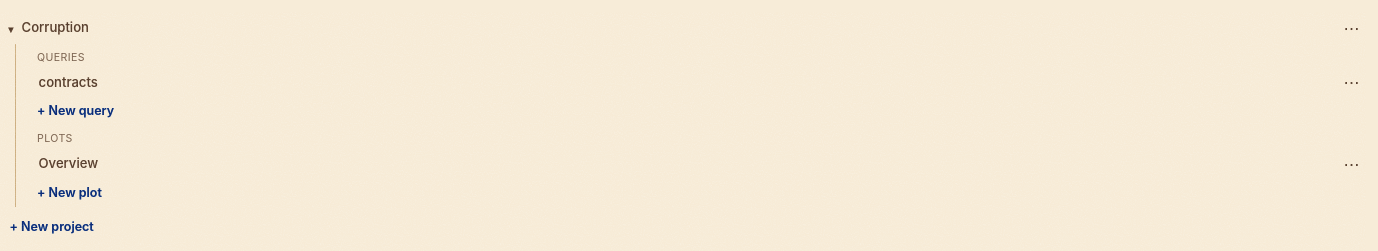
Test: StudioNav (server-backed drawer tree) › collapses a project on request, and opens it again
The width and height of the screenshot is (1378, 251).
Click the button with test id "nav-project-toggle-p1" at (12, 28), box [6,12,17,44]
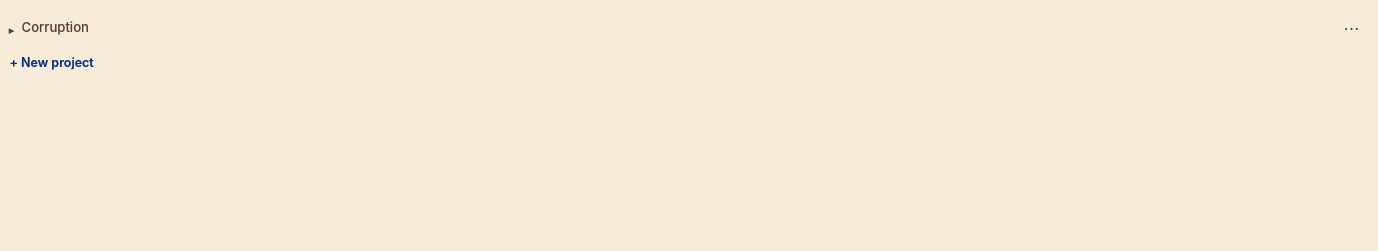
Expected: the button with test id "nav-project-toggle-p1" is collapsed
Click the button with test id "nav-project-toggle-p1" at (12, 28), box [6,12,17,44]
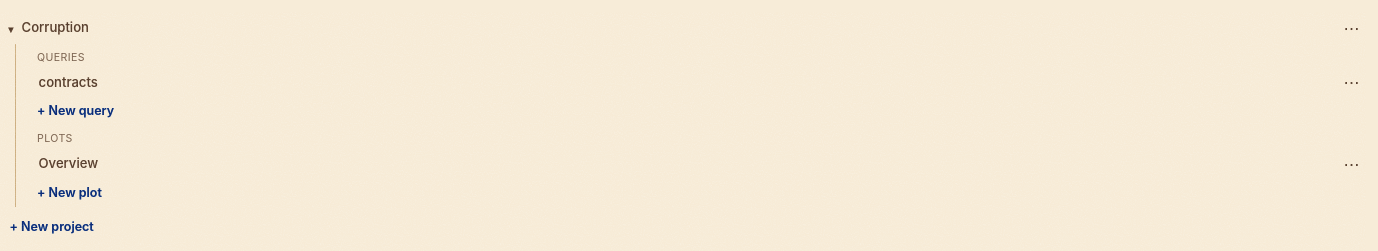
Expected: the element with test id "studio-nav-query" is shown, [34,68,1366,97]
